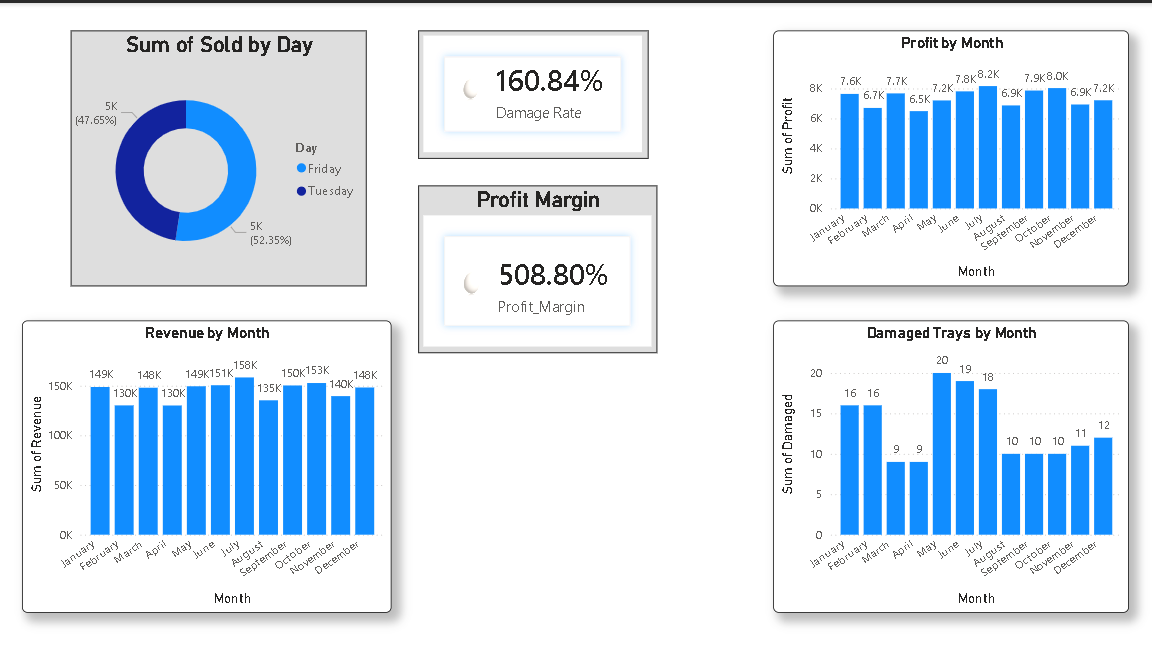

What the dashboard file says about the page in this screenshot:
{"tool":"powerbi","page":{"name":"Business Insights Dashboard","canvas":[1280,720],"ordinal":1},"visuals":[{"type":"cardVisual","title":"Profit Margin","fields":{"Data":["Table1.Profit_Margin"]},"box":[462.8,200.3,262.5,184.1],"z":0},{"type":"donutChart","fields":{"Category":["Table1.Day"],"Y":["Sum(Table1.Sold)"]},"box":[80.9,29.9,324.7,281.1],"z":1000},{"type":"clusteredColumnChart","title":"Revenue by Month","fields":{"Y":["Sum(Table1.Revenue)"],"Category":["Table1.Month"]},"box":[27.4,348.3,405.5,320.9],"z":2000},{"type":"clusteredColumnChart","title":"Profit by Month","fields":{"Category":["Table1.Month"],"Y":["Sum(Table1.Profit)"]},"box":[852.1,29.9,390.6,281.1],"z":3000},{"type":"clusteredColumnChart","title":"Damaged Trays by Month","fields":{"Category":["Table1.Month"],"Y":["Sum(Table1.Damaged)"]},"box":[852.1,348.3,390.6,320.9],"z":4000},{"type":"cardVisual","fields":{"Data":["Table1.Damage Rate"]},"box":[462.8,29.9,252.5,140.6],"z":5000}]}

Visuals, with their boxes in screenshot pixels (x1, y1, x2, y2), scaled from the page's 1280x720 canvas onto the 1152x657 screenshot:
"Profit Margin" cardVisual: {"x1": 417, "y1": 183, "x2": 653, "y2": 351}
donutChart - Table1.Day x Sum(Table1.Sold): {"x1": 73, "y1": 27, "x2": 365, "y2": 284}
"Revenue by Month" clusteredColumnChart: {"x1": 25, "y1": 318, "x2": 390, "y2": 611}
"Profit by Month" clusteredColumnChart: {"x1": 767, "y1": 27, "x2": 1118, "y2": 284}
"Damaged Trays by Month" clusteredColumnChart: {"x1": 767, "y1": 318, "x2": 1118, "y2": 611}
cardVisual - Table1.Damage Rate: {"x1": 417, "y1": 27, "x2": 644, "y2": 156}
